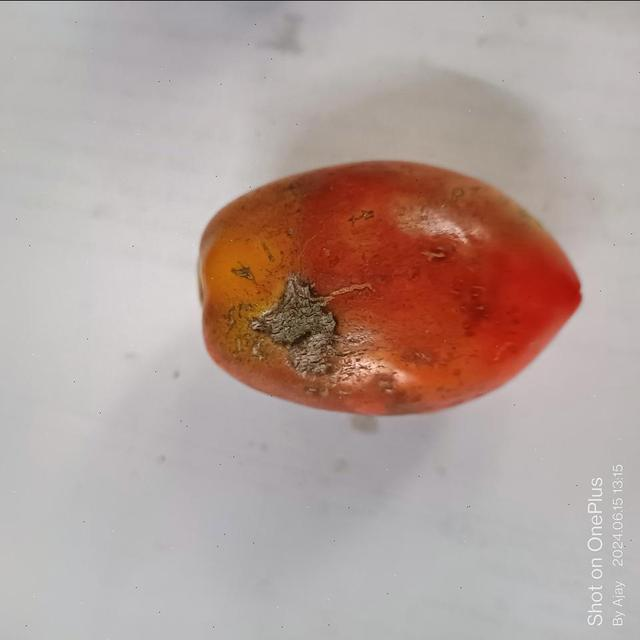Bacterial Spot Fruit: (18, 11, 239, 218)
